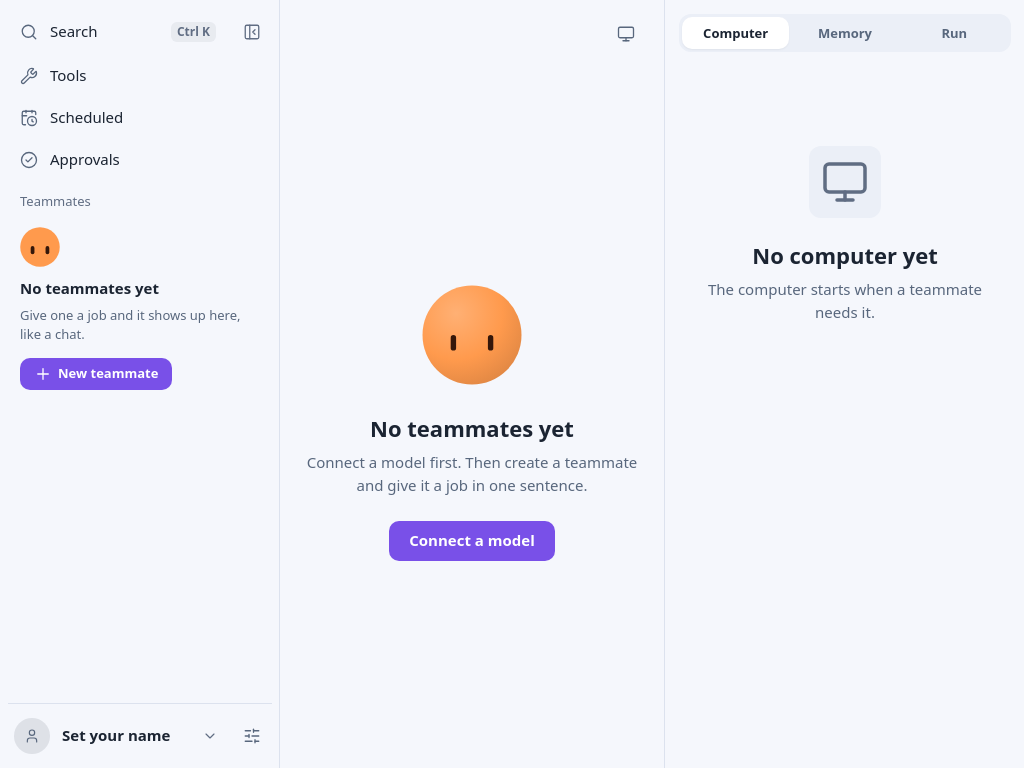
teammates view › switches context panel tabs, each with a calm empty state and no title row
Click the tab "Memory" at {"x": 845, "y": 33}, box [791, 17, 899, 49]
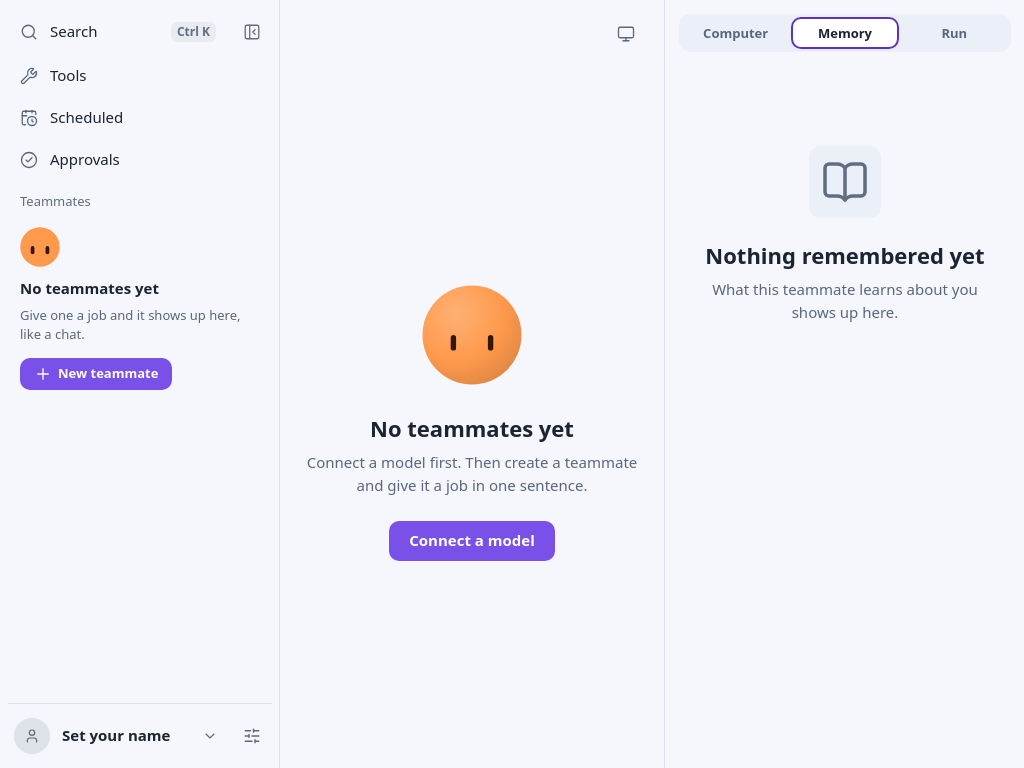
Check: the heading "Nothing remembered yet" is shown, box [705, 242, 985, 270]
Check: the text "What this teammate learns about you shows up here." is shown, box [695, 278, 995, 324]
Click the tab "Run" at {"x": 954, "y": 33}, box [901, 17, 1008, 49]
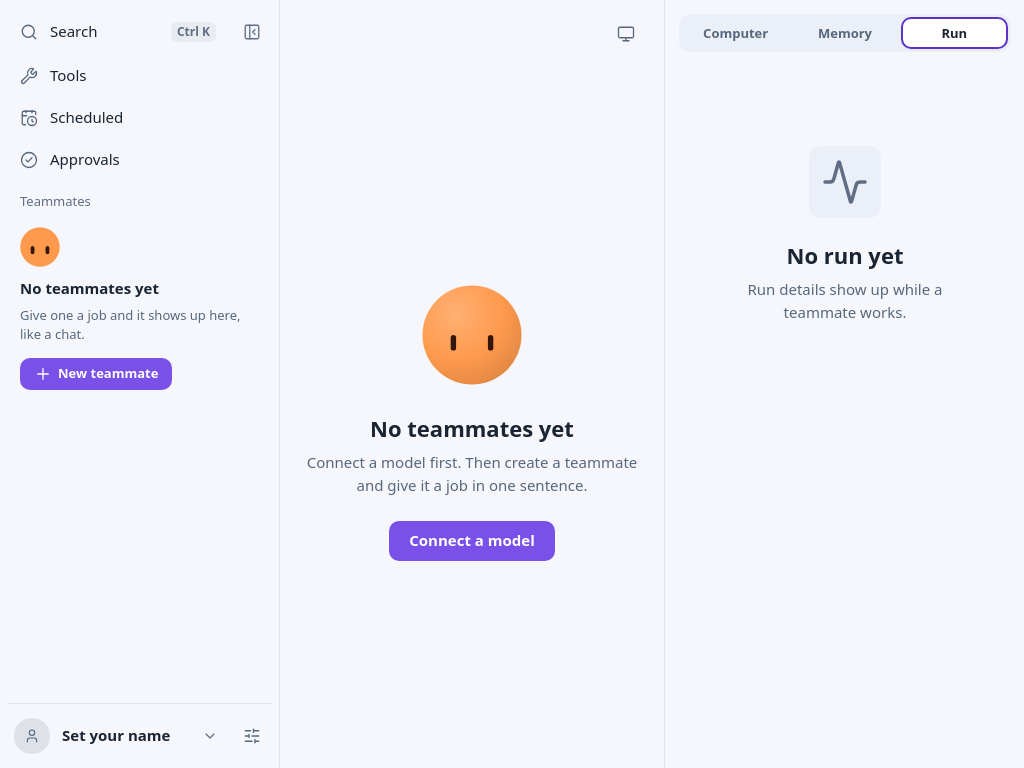
Check: the heading "No run yet" is shown, box [786, 242, 903, 270]
